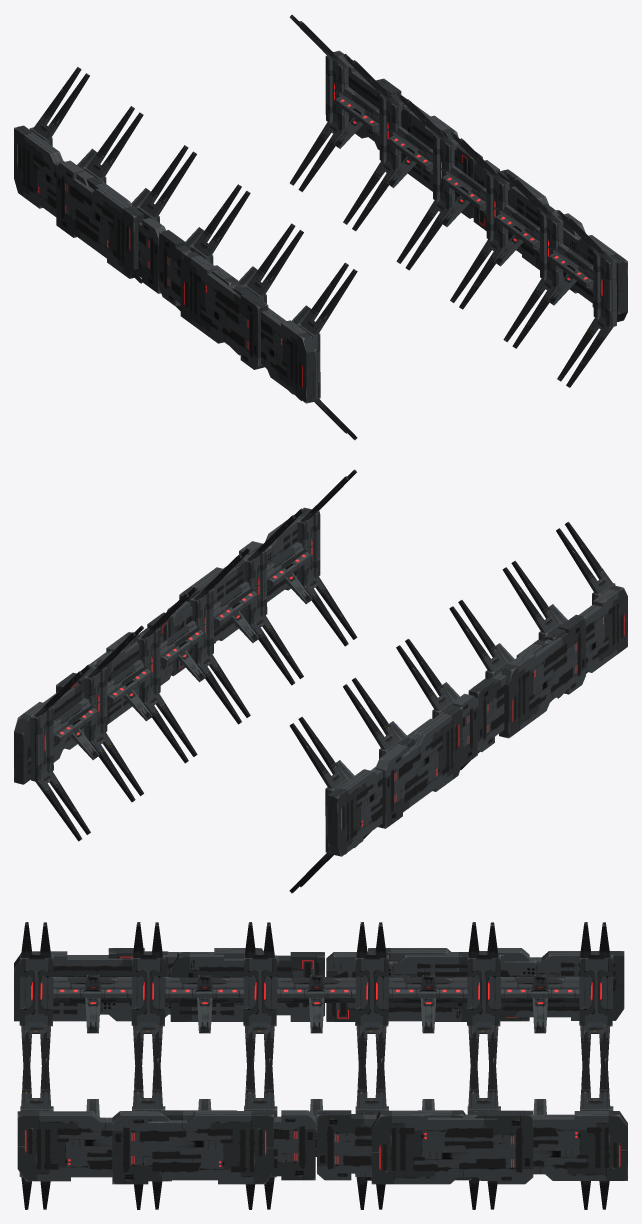
File: WarpGate29b_sm.gltf
3 views of the same model, one above another, from view 1: azimuth 30°, elevation 25°; view 2: azimuth 150°, elevation 25°; view 3: azimuth 270°, elevation 25° (orthographic). The views are drawn at different scales.
Visible parts, largest first — view 1: WarpGate29; view 2: WarpGate29; view 3: WarpGate29.
Boxes of the visible parts, <box> form: WarpGate29: <box>14,15,627,440</box>; WarpGate29: <box>14,469,627,893</box>; WarpGate29: <box>14,922,627,1209</box>.
Size of the model in its own units: 121 by 59.83 by 187.
1 material, 1 textured.
